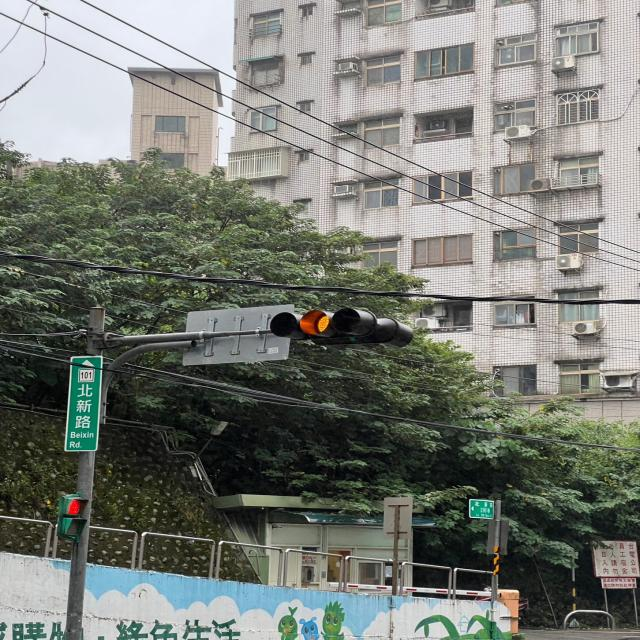yellow light: (273, 304, 381, 344)
